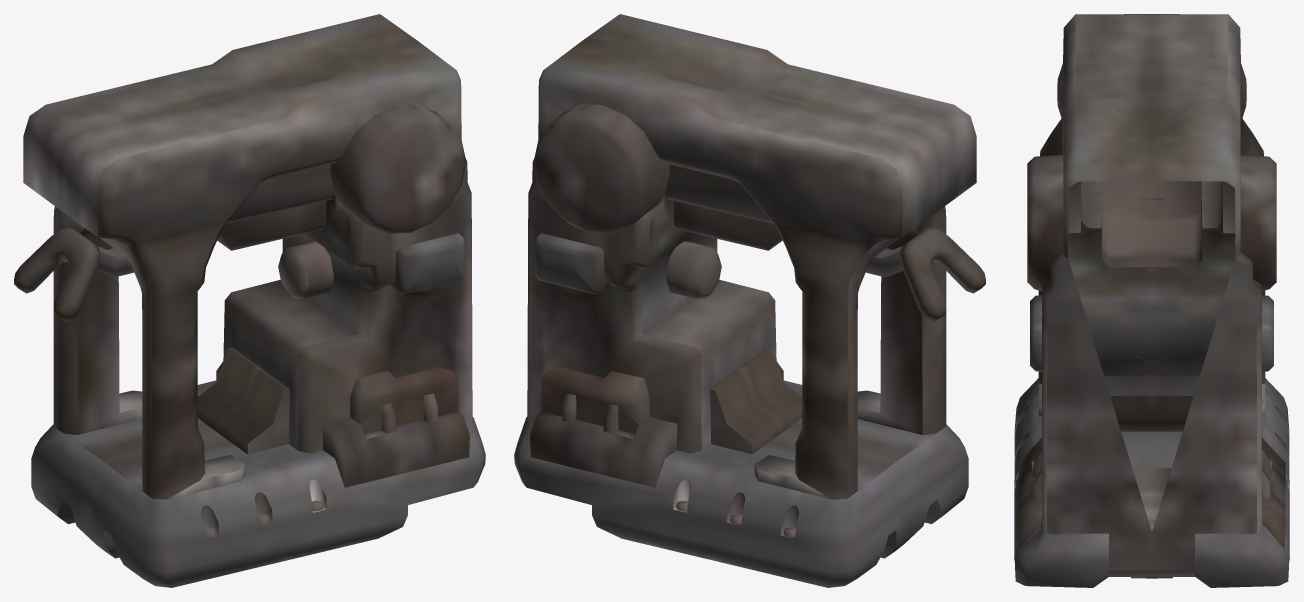
Rendered from HeavyWeapons_Vladof_Stock_3.obj.
3 views of the same model, side by side, from view 1: azimuth 30°, elevation 25°; view 2: azimuth 150°, elevation 25°; view 3: azimuth 270°, elevation 25° (orthographic). The views are drawn at different scales.
Parts seen in each view (by area): view 1: SK_HW_VLA.445, SK_HW_VLA.448, SK_HW_VLA.447, SK_HW_VLA.446; view 2: SK_HW_VLA.445, SK_HW_VLA.448, SK_HW_VLA.447, SK_HW_VLA.446; view 3: SK_HW_VLA.445.
Part boxes in pixels (<box>): SK_HW_VLA.445: <box>23,14,485,587</box>; SK_HW_VLA.448: <box>14,228,100,322</box>; SK_HW_VLA.447: <box>278,241,333,298</box>; SK_HW_VLA.446: <box>97,246,134,277</box>; SK_HW_VLA.445: <box>514,14,976,587</box>; SK_HW_VLA.448: <box>899,228,985,322</box>; SK_HW_VLA.447: <box>666,241,721,298</box>; SK_HW_VLA.446: <box>865,246,902,277</box>; SK_HW_VLA.445: <box>1014,14,1289,587</box>.
Size of the model in its own units: 19.63 by 20.83 by 11.51.
